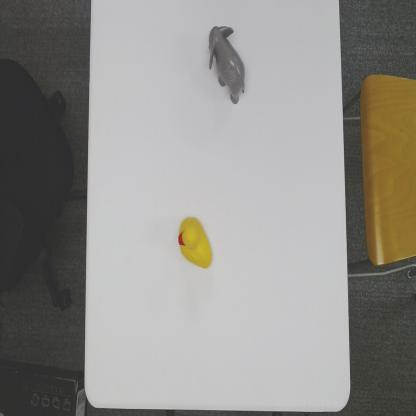Duck: (177, 214, 213, 271)
Elephant: (208, 23, 246, 106)
